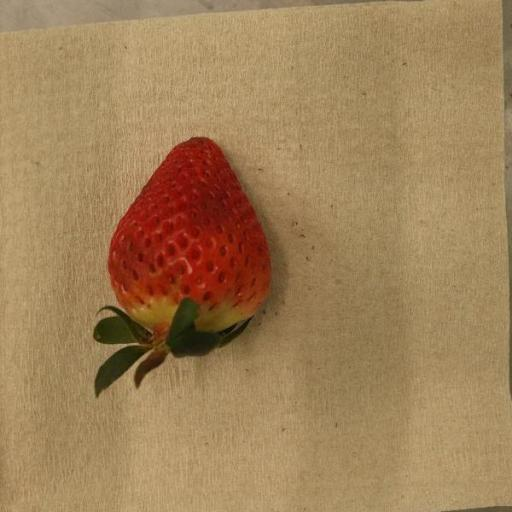Strawberry: (93, 138, 270, 398)
